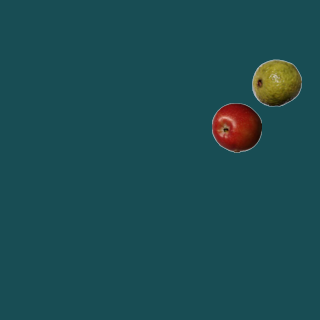Apple Braeburn: (211, 102, 261, 152)
Guava: (251, 57, 301, 107)
